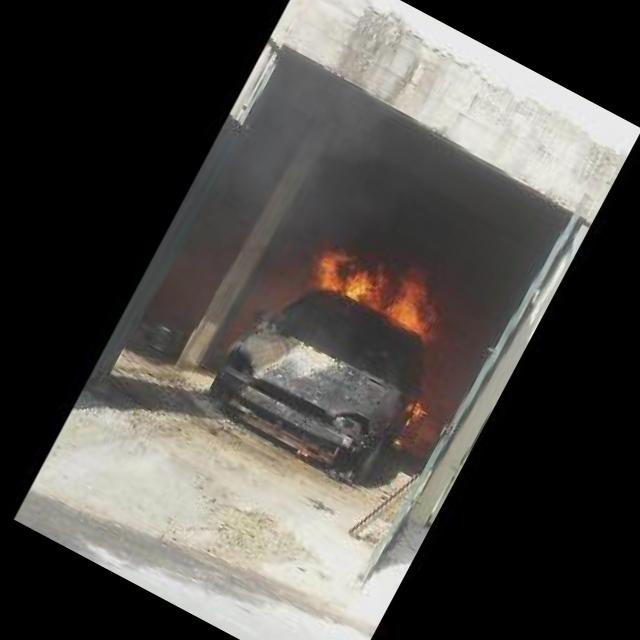fire: (304, 220, 460, 346), (400, 394, 438, 432)
